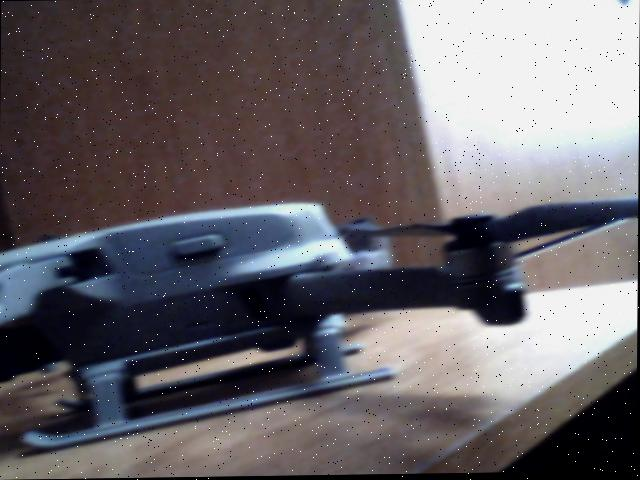drone: (0, 147, 639, 464)
